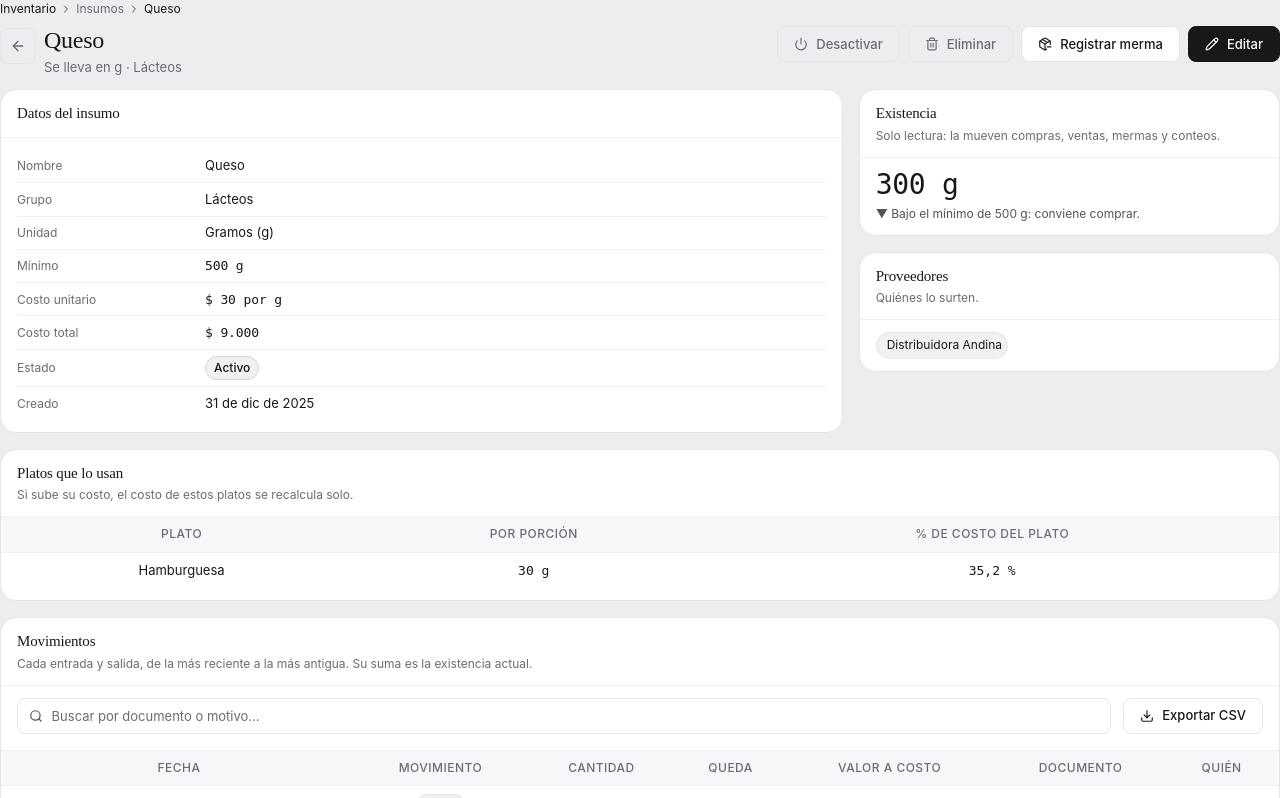
Scenario: Insumos — la existencia solo cambia con movimientos › el detalle muestra la existencia, el aviso de mínimo y el historial con su documento
Expected: the heading "Queso" is shown, [44,27,104,53]
Expected: the text "▼ Bajo el mínimo de 500 g: conviene comprar." is shown, [876,206,1140,221]
Click the button "Eliminar".
click(960, 44)  # box [908,26,1013,62]
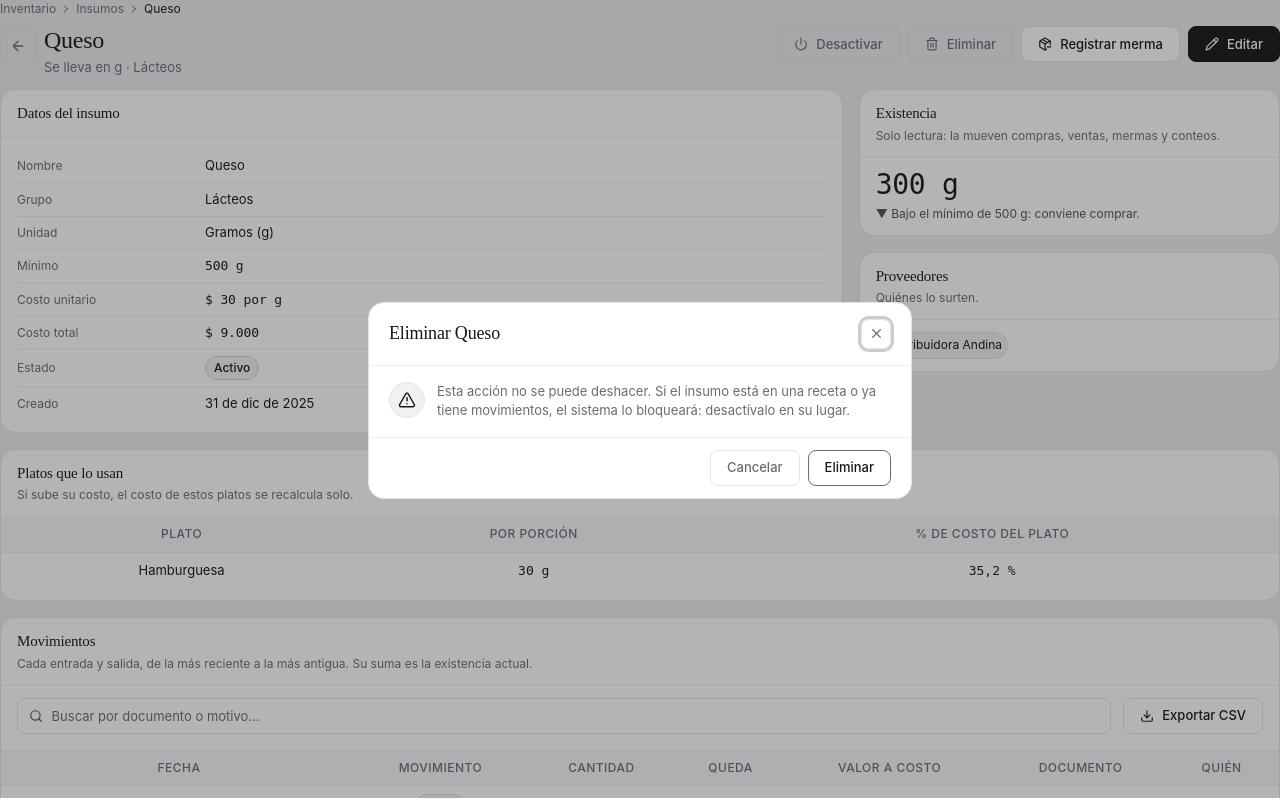
Expected: the dialog shows "desactívalo en su lugar", [437,382,876,418]
